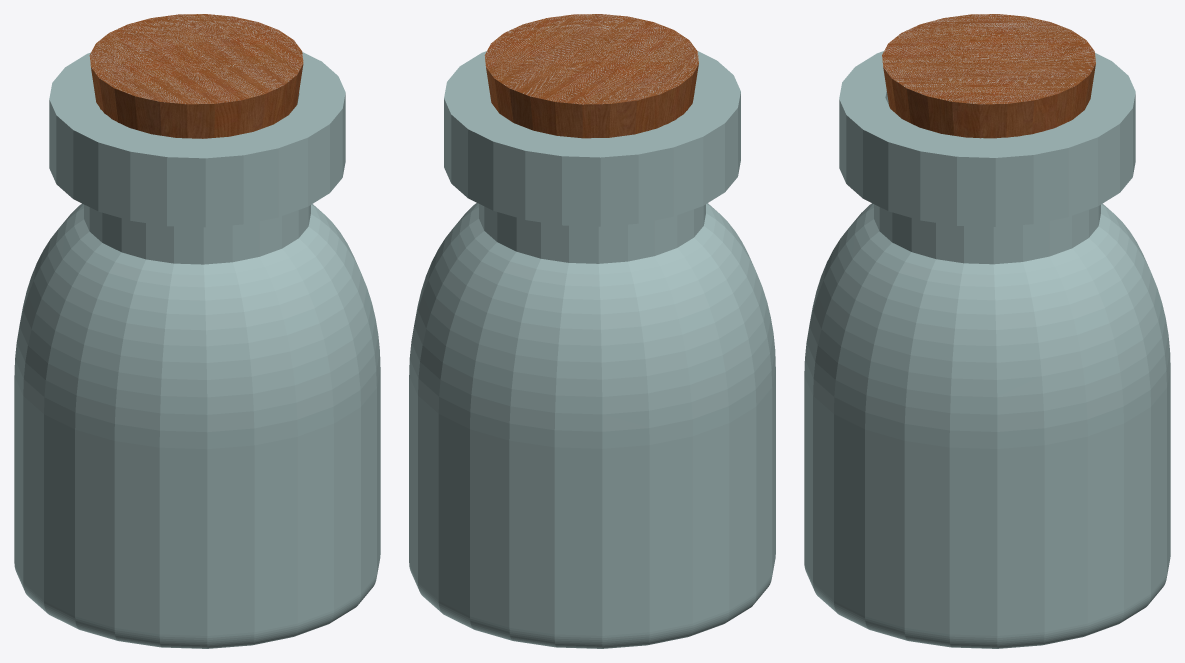
3 renders of one model, left to right at view 1: azimuth 30°, elevation 25°; view 2: azimuth 150°, elevation 25°; view 3: azimuth 270°, elevation 25°, orthographic.
Visible parts, largest first — view 1: mesh2_mesh2-geometry, mesh1_mesh1-geometry; view 2: mesh2_mesh2-geometry, mesh1_mesh1-geometry; view 3: mesh2_mesh2-geometry, mesh1_mesh1-geometry.
Part boxes in pixels (<box>): mesh2_mesh2-geometry: <box>14,52,380,648</box>; mesh1_mesh1-geometry: <box>89,14,303,138</box>; mesh2_mesh2-geometry: <box>409,51,775,648</box>; mesh1_mesh1-geometry: <box>484,14,698,138</box>; mesh2_mesh2-geometry: <box>804,51,1170,648</box>; mesh1_mesh1-geometry: <box>882,14,1095,138</box>.
Bounding box in the file's own units: 0.4758 × 0.7397 × 0.4758.
3 materials, 1 textured.
